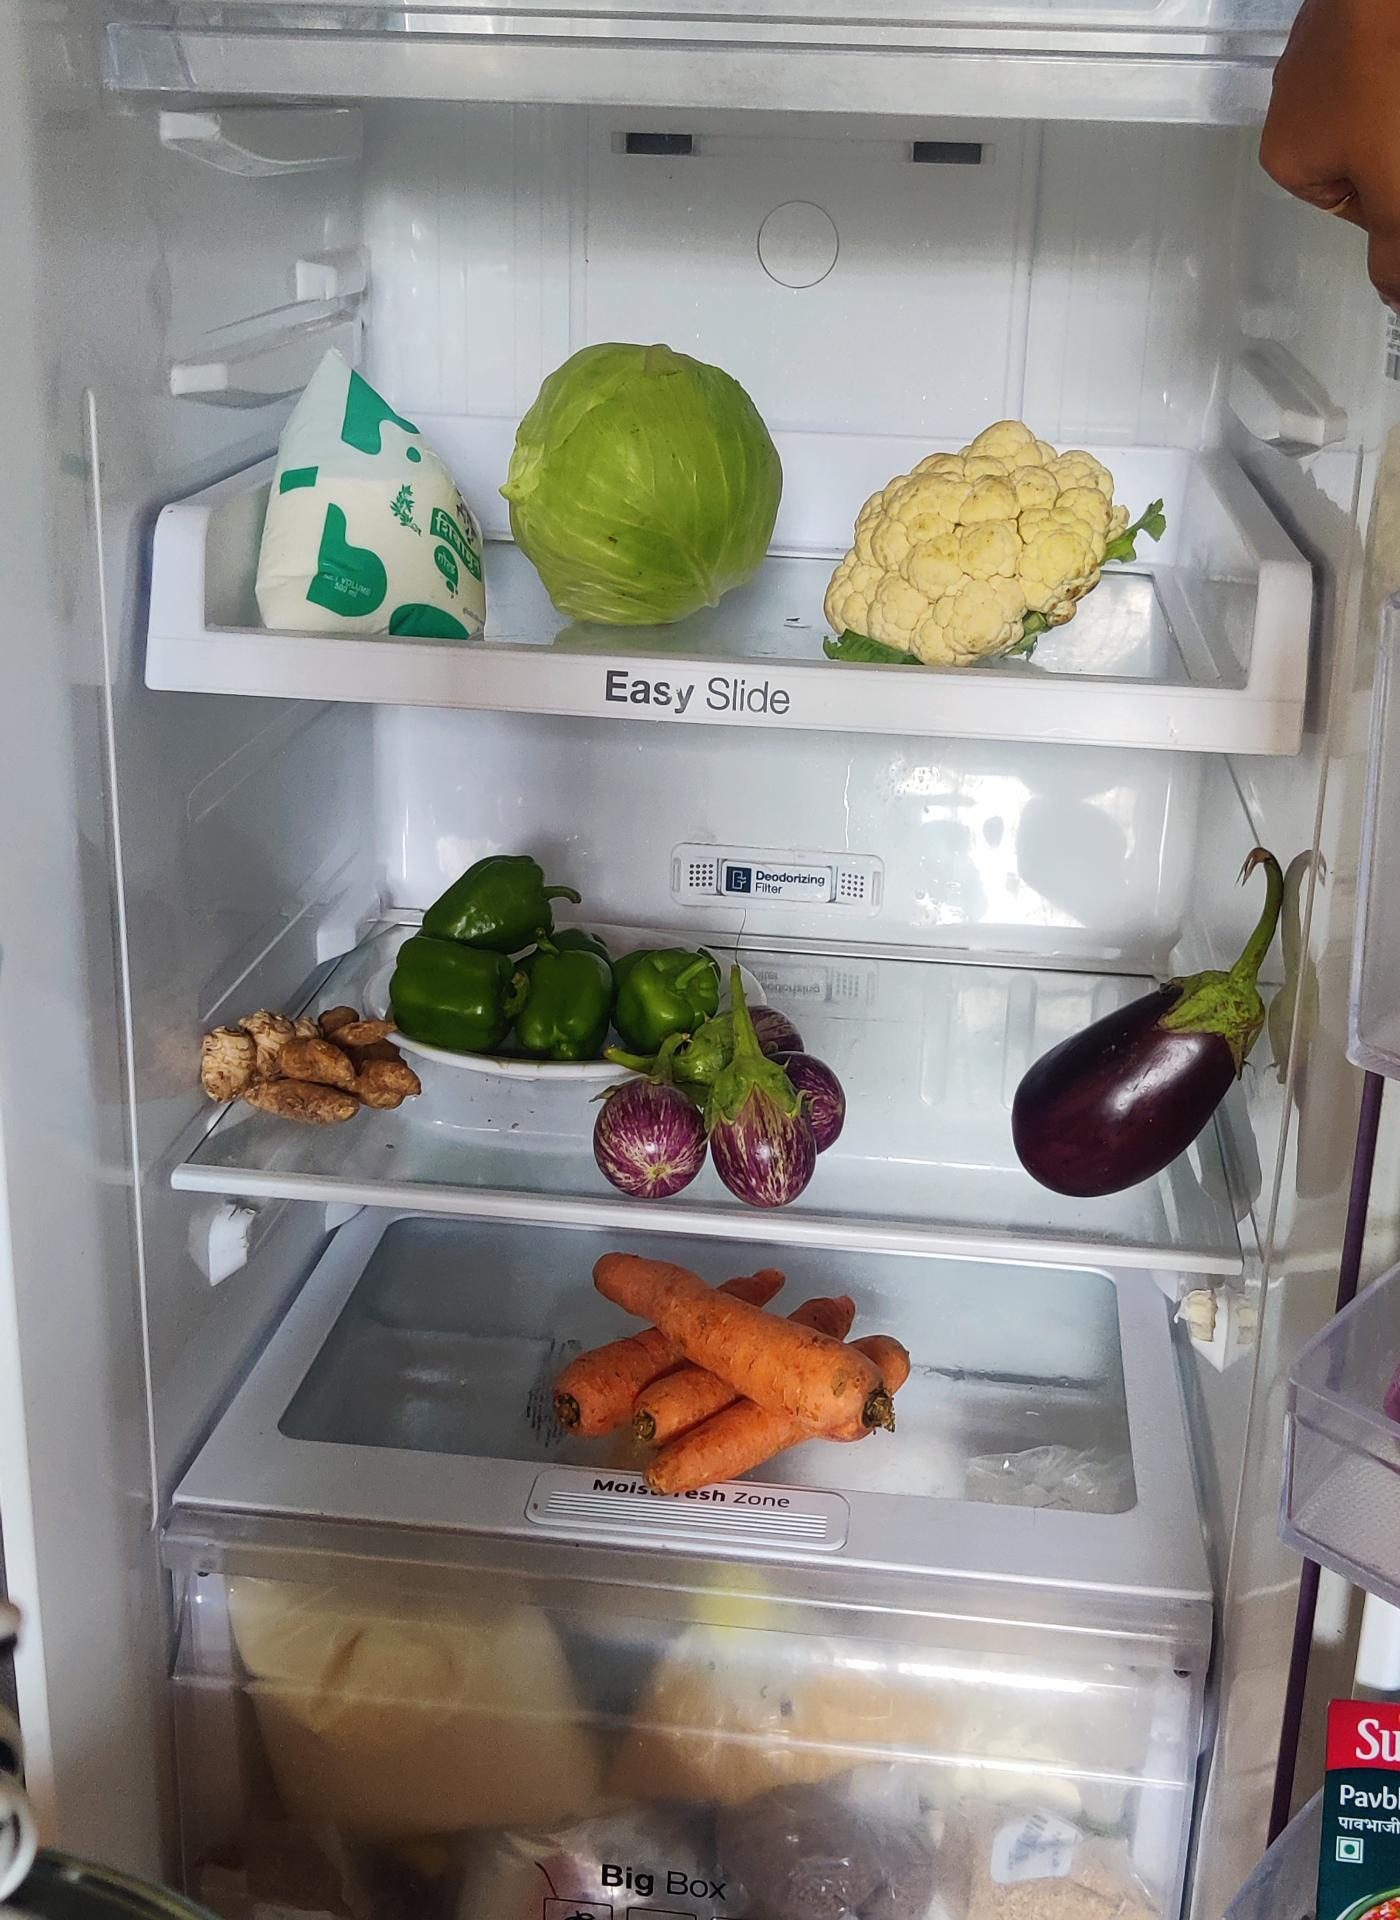brinjal: (996, 938, 1276, 1203), (580, 1009, 838, 1206)
cabbage: (505, 341, 783, 631)
capsicum: (386, 859, 725, 1066)
carrots: (547, 1248, 924, 1486)
cauliflower: (822, 426, 1126, 669)
ginger: (194, 1005, 420, 1127)
milk: (210, 350, 489, 641)
